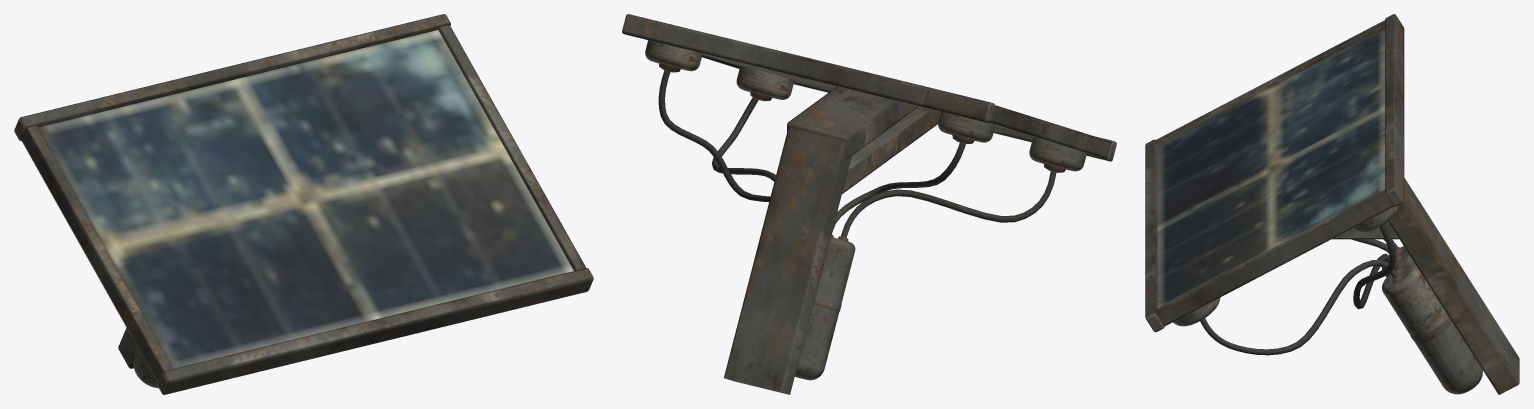
The model's file is prop_small_014.glb.
The picture shows the model from 3 angles, left to right: view 1: azimuth 30°, elevation 25°; view 2: azimuth 150°, elevation 25°; view 3: azimuth 270°, elevation 25°; orthographic projection. The views are drawn at different scales.
Visible parts, largest first — view 1: Building_12_038; view 2: Building_12_038; view 3: Building_12_038.
Boxes of the visible parts, bbox=[...] form: Building_12_038: bbox=[14, 14, 593, 394]; Building_12_038: bbox=[622, 14, 1116, 394]; Building_12_038: bbox=[1145, 14, 1519, 394].
Size of the model in its own units: 0.8 by 0.6075 by 0.7232.
Materials: 1 (1 with a texture image).
